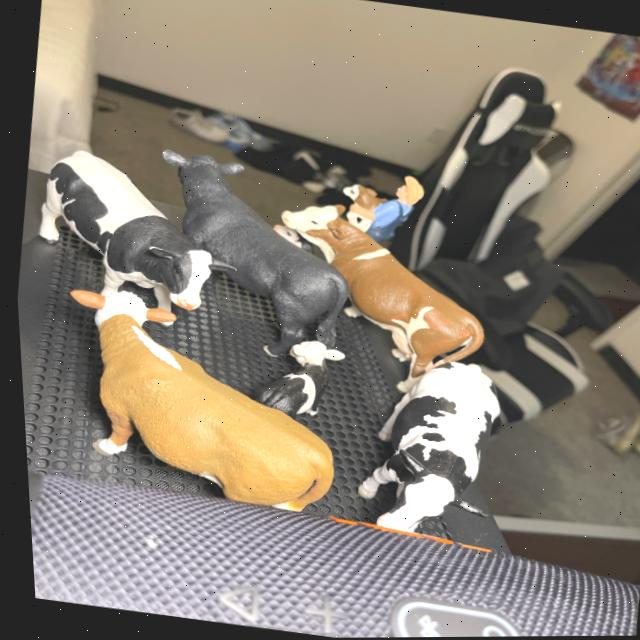cow: (28, 283, 344, 574), (128, 113, 370, 383), (260, 172, 488, 398), (9, 135, 227, 348), (347, 351, 500, 543), (249, 327, 342, 428), (343, 182, 384, 223), (297, 206, 327, 219)
person: (356, 171, 428, 249)
